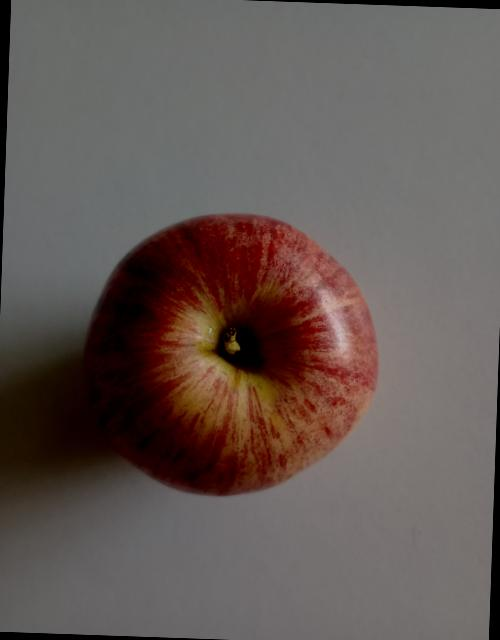Manzana: (54, 188, 412, 525)
